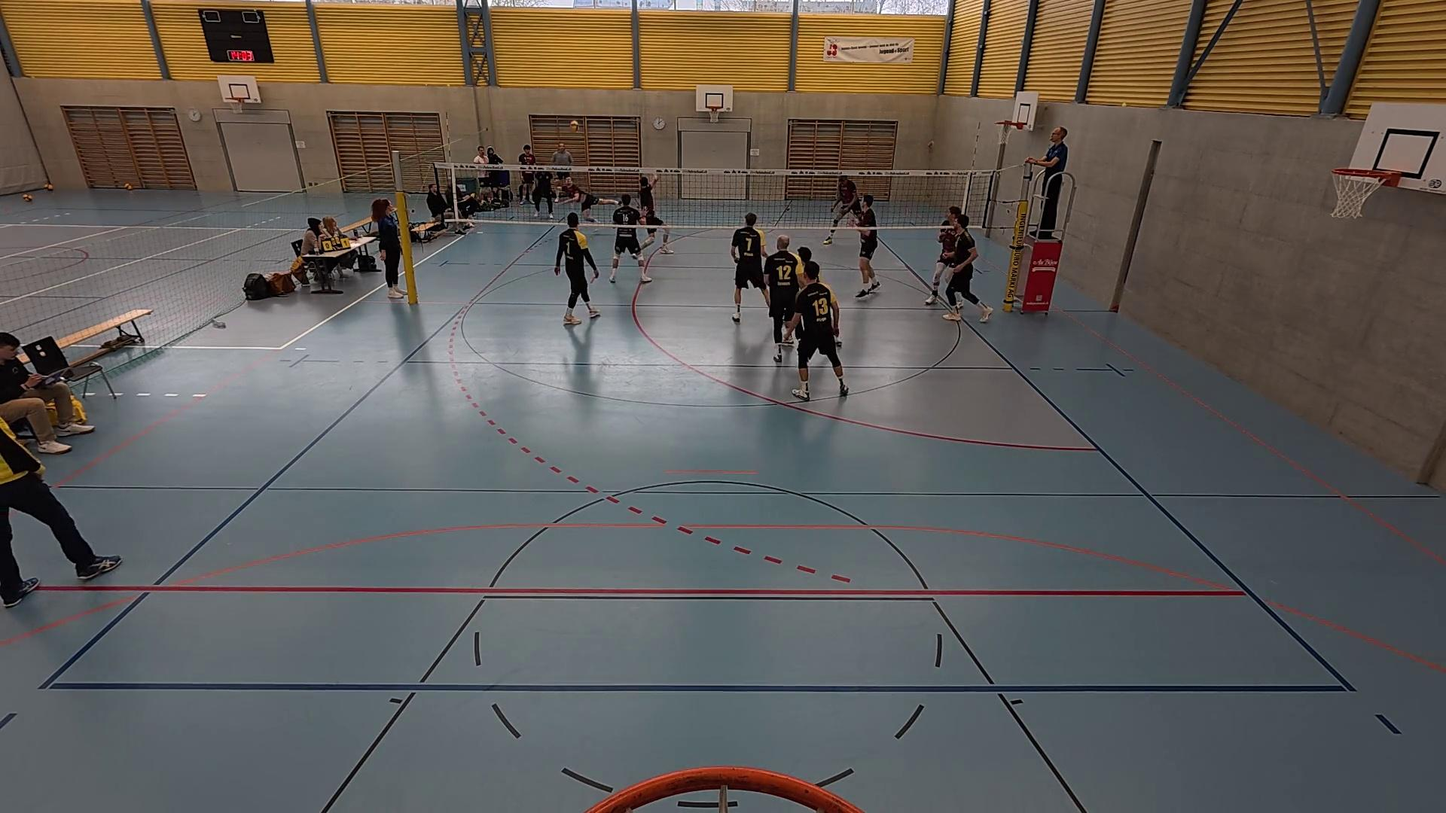Player: (792, 260, 848, 400), (941, 211, 992, 324), (554, 213, 602, 325), (764, 236, 806, 362), (552, 173, 625, 232), (731, 213, 770, 322), (607, 195, 651, 285), (925, 206, 961, 307), (633, 169, 672, 254), (853, 193, 881, 299), (824, 174, 859, 242)
ball: (570, 118, 583, 129)
